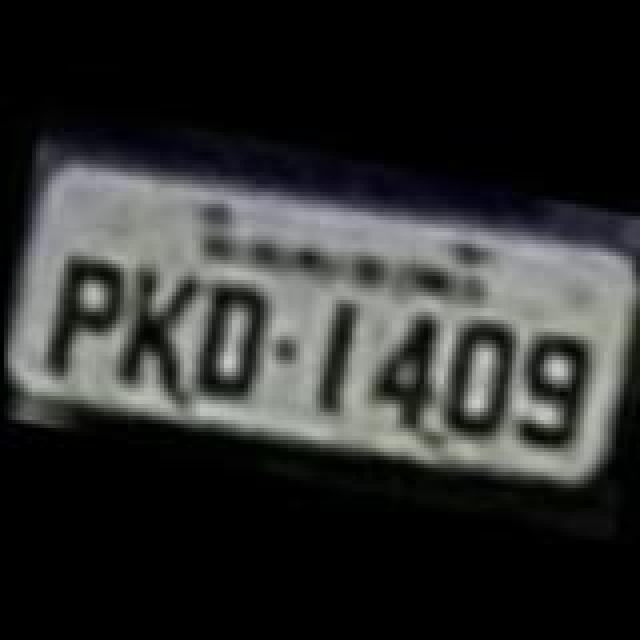1: (300, 294, 360, 414)
4: (354, 298, 450, 438)
9: (500, 322, 592, 454)
K: (106, 258, 206, 402)
O: (426, 308, 522, 452), (178, 270, 270, 406)
P: (34, 246, 134, 386)
